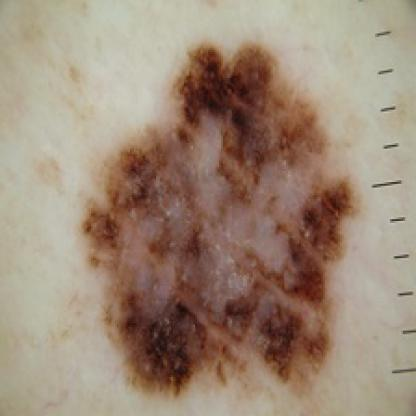malignant: (76, 15, 362, 386)
